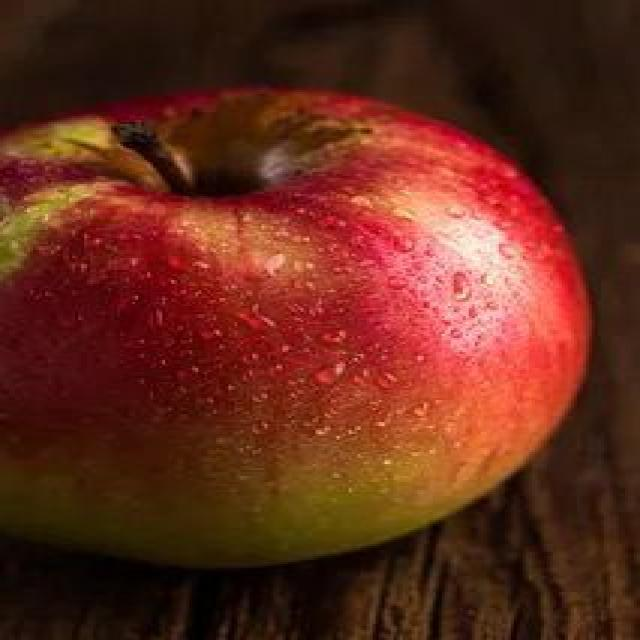Healty Apple: (6, 86, 595, 564)
